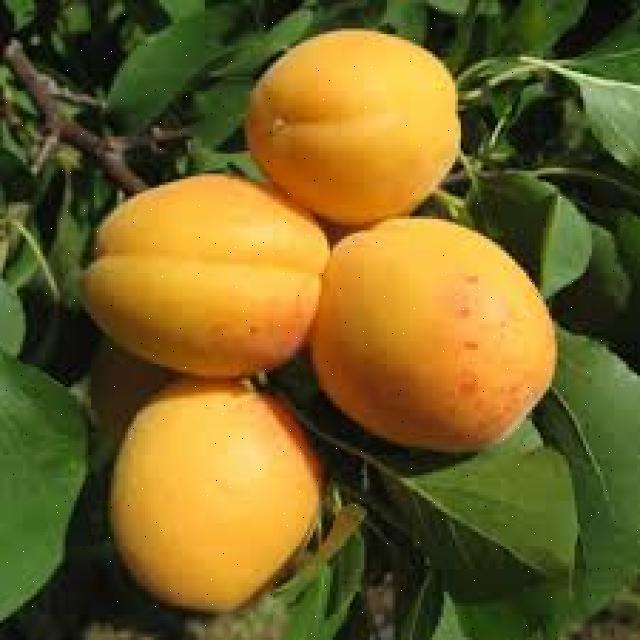kayisi: (310, 202, 536, 451), (72, 172, 326, 365), (106, 375, 316, 604), (246, 35, 460, 207)
yaprak: (471, 17, 632, 198)
